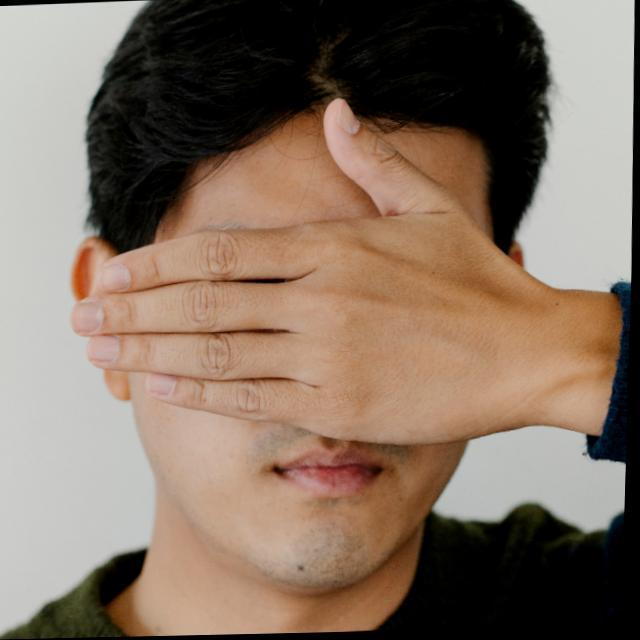7_mano_rostro: (83, 100, 482, 448)
